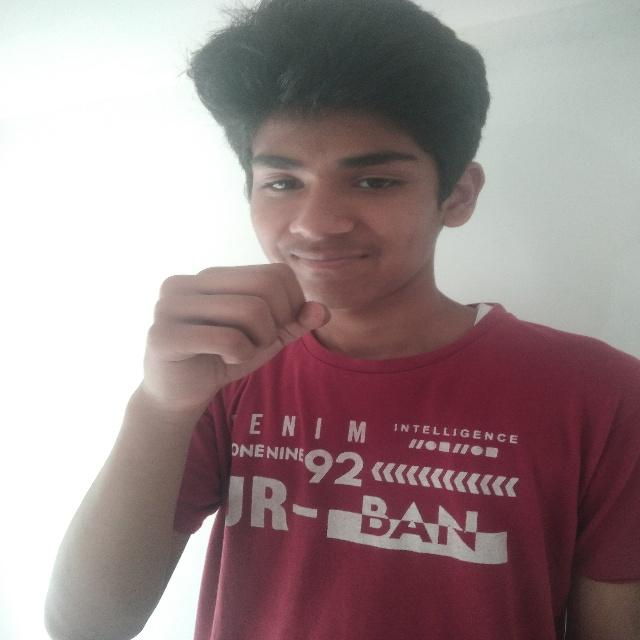Fist Mouth: (118, 13, 494, 426)
